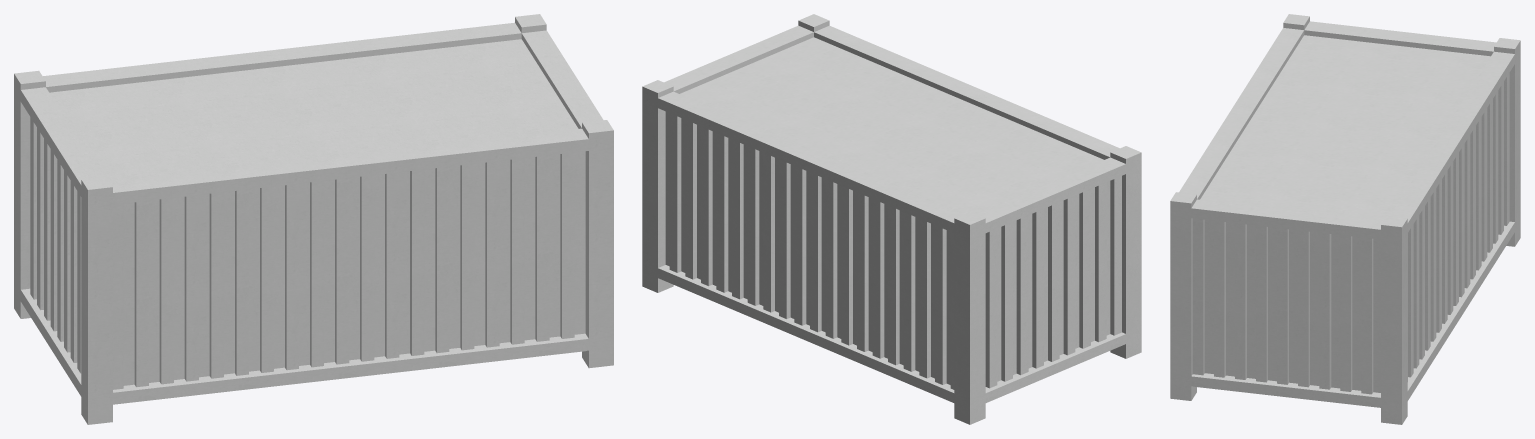
File: shippingContainer.obj
3 views of the same model, side by side, from view 1: azimuth 30°, elevation 25°; view 2: azimuth 150°, elevation 25°; view 3: azimuth 270°, elevation 25° (orthographic). The views are drawn at different scales.
Visible parts, largest first — view 1: Union1; view 2: Union1; view 3: Union1.
Boxes of the visible parts, x1,y1,x2,y2 form: Union1: (14,14,613,424); Union1: (642,14,1141,424); Union1: (1170,14,1520,424).
Size of the model in its own units: 46.26 by 20 by 32.12.
Materials: 1 (1 with a texture image).
